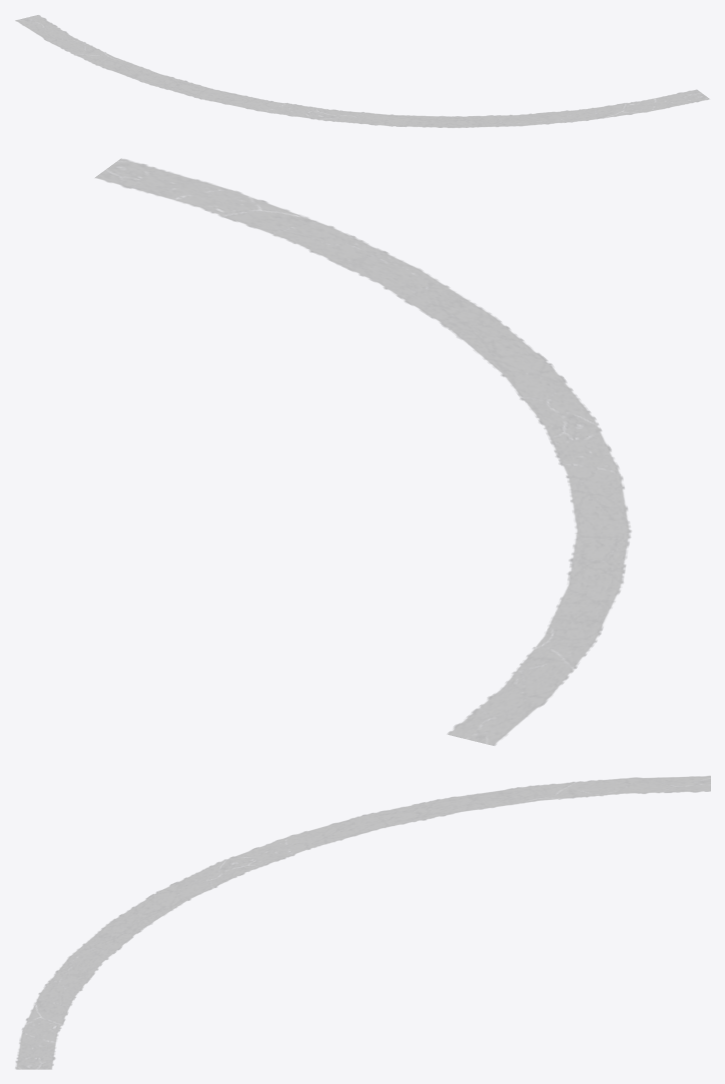
The model's file is q-downtown-sidewalk-corner-round-3m-stripe.glb.
The picture shows the model from 3 angles, top to bottom: view 1: azimuth 30°, elevation 25°; view 2: azimuth 150°, elevation 25°; view 3: azimuth 270°, elevation 25°; orthographic projection. The views are drawn at different scales.
Parts seen in each view (by area): view 1: Sidewalk_Corner_Round_3m_Stripe; view 2: Sidewalk_Corner_Round_3m_Stripe; view 3: Sidewalk_Corner_Round_3m_Stripe.
Part boxes in pixels (<box>): Sidewalk_Corner_Round_3m_Stripe: <box>15,15,709,127</box>; Sidewalk_Corner_Round_3m_Stripe: <box>95,158,631,745</box>; Sidewalk_Corner_Round_3m_Stripe: <box>15,776,710,1069</box>.
Size of the model in its own units: 3.4 by 0 by 3.4.
Materials: 1 (1 with a texture image).
